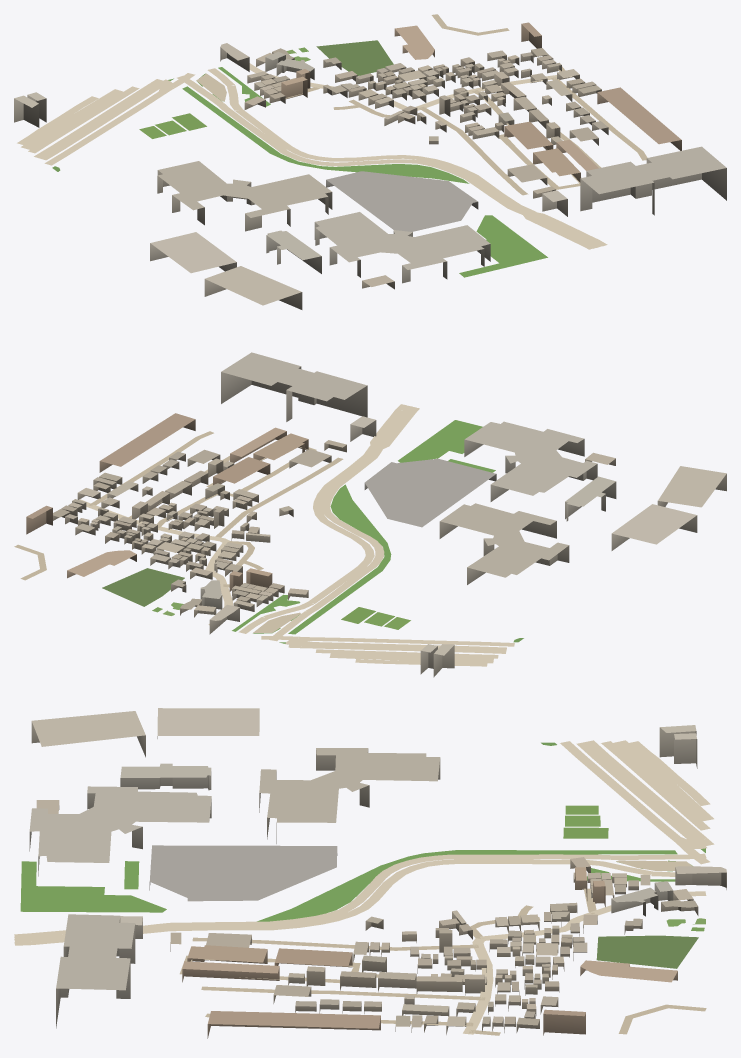
The picture shows the model from 3 angles, top to bottom: view 1: azimuth 30°, elevation 25°; view 2: azimuth 150°, elevation 25°; view 3: azimuth 270°, elevation 25°; orthographic projection. The views are drawn at different scales.
Visible parts, largest first — view 1: building, ground; view 2: building, ground; view 3: building, ground.
Boxes of the visible parts, x1,y1,x2,y2 form: building: [14, 22, 726, 309]; ground: [17, 14, 647, 277]; building: [26, 352, 726, 677]; ground: [14, 404, 523, 666]; building: [29, 708, 726, 1038]; ground: [14, 740, 714, 1035].
Size of the model in its own units: 536 by 32.6 by 516.
